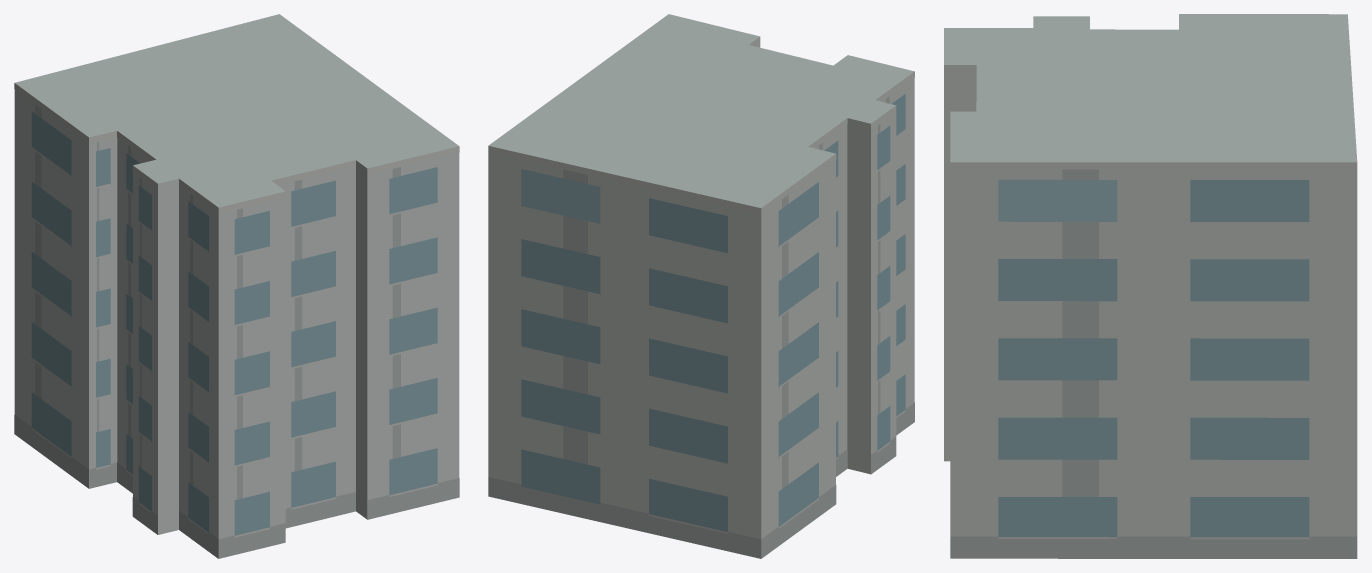
Rendered from survey-upis-32949493.glb.
3 views of the same model, side by side, from view 1: azimuth 30°, elevation 25°; view 2: azimuth 150°, elevation 25°; view 3: azimuth 270°, elevation 25° (orthographic). The views are drawn at different scales.
Visible parts, largest first — view 1: survey-upis-32949493.tmp; view 2: survey-upis-32949493.tmp; view 3: survey-upis-32949493.tmp.
Part boxes in pixels (x1=…): survey-upis-32949493.tmp: x1=14, y1=14, x2=459, y2=558; survey-upis-32949493.tmp: x1=488, y1=14, x2=914, y2=558; survey-upis-32949493.tmp: x1=944, y1=14, x2=1357, y2=558.
Size of the model in its own units: 10.7 by 13.3 by 12.59.
